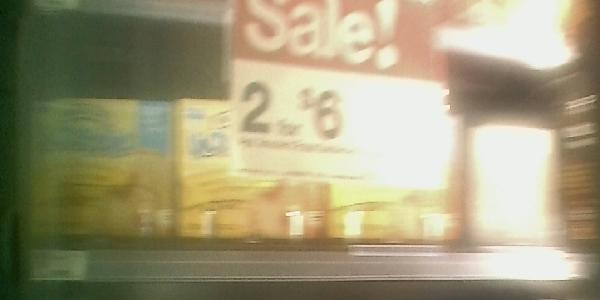icecream: (182, 95, 326, 261), (29, 96, 177, 246), (332, 106, 461, 253)
